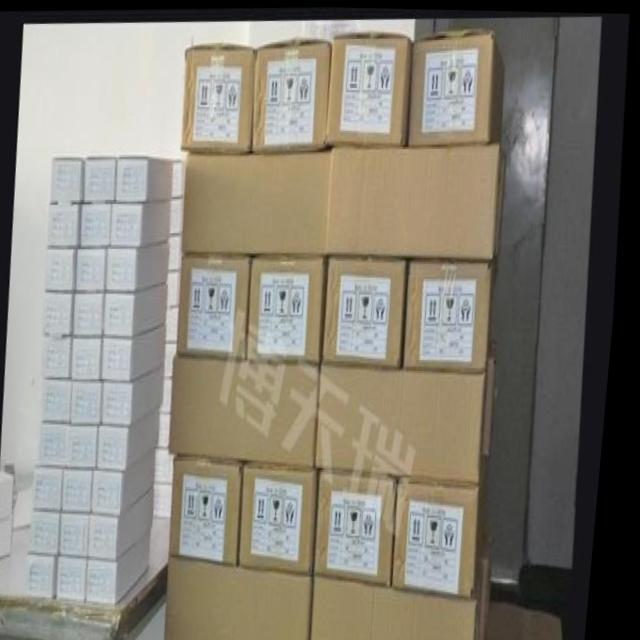box: (329, 145, 510, 256), (324, 363, 494, 476), (322, 540, 500, 640), (177, 353, 326, 470), (185, 148, 334, 257), (175, 552, 324, 640), (402, 461, 495, 590), (410, 32, 507, 147), (410, 255, 496, 371), (328, 34, 413, 147), (323, 468, 405, 584), (328, 258, 411, 368), (248, 463, 327, 575), (252, 254, 330, 366), (254, 41, 334, 149), (178, 456, 251, 563), (183, 46, 254, 154), (184, 255, 258, 358), (98, 484, 163, 559), (100, 447, 163, 517), (96, 535, 159, 604), (108, 364, 170, 425), (106, 324, 171, 382), (104, 411, 166, 471), (108, 283, 173, 339), (109, 238, 171, 294), (114, 200, 177, 250), (118, 160, 177, 203), (51, 200, 85, 251), (55, 157, 90, 206), (86, 156, 119, 206), (71, 423, 106, 468), (80, 203, 115, 248), (67, 553, 99, 602), (68, 511, 100, 559), (71, 468, 100, 519), (39, 507, 69, 556), (77, 383, 110, 427), (39, 552, 67, 603), (79, 290, 110, 336), (78, 332, 107, 381), (49, 334, 78, 383), (79, 248, 112, 291), (50, 289, 80, 336), (43, 464, 72, 511), (49, 379, 78, 426), (45, 424, 74, 470), (48, 253, 79, 291), (163, 447, 182, 488), (162, 483, 181, 518), (175, 163, 191, 202), (171, 270, 188, 306), (169, 306, 186, 342), (173, 196, 188, 236), (170, 238, 187, 272), (169, 373, 181, 415), (166, 413, 179, 451), (171, 341, 183, 379)
